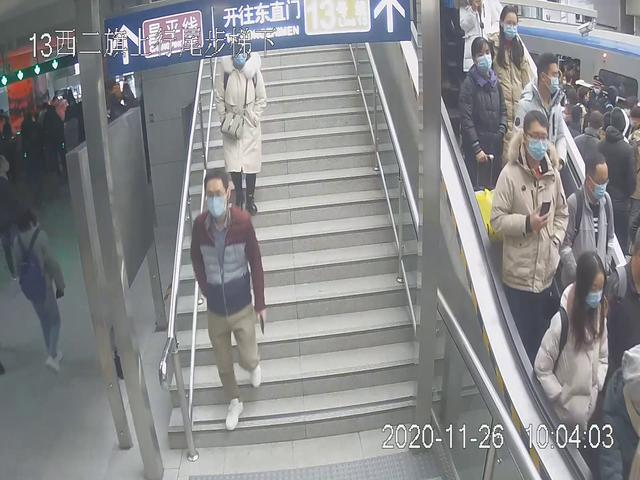person: (187, 173, 274, 440), (490, 108, 567, 369), (525, 252, 609, 473), (6, 199, 72, 374), (458, 35, 514, 226), (213, 45, 271, 218), (483, 1, 538, 156)
